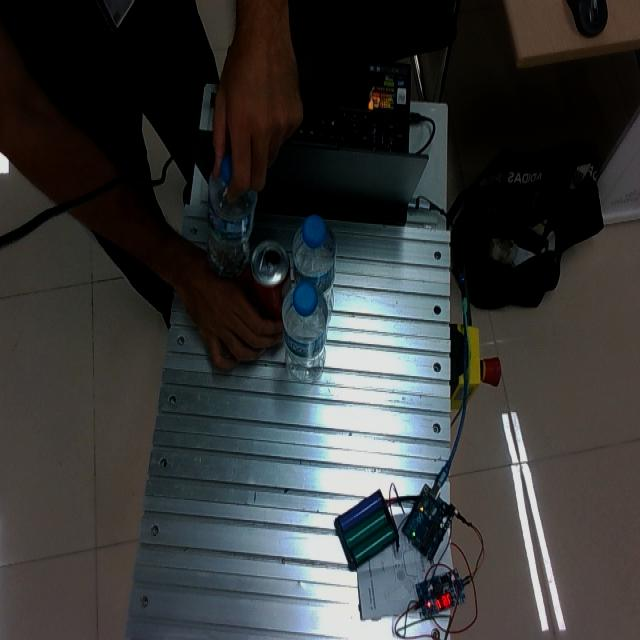coca: (249, 240, 290, 321)
lavie: (206, 164, 258, 280), (282, 278, 330, 382), (292, 215, 338, 317)
